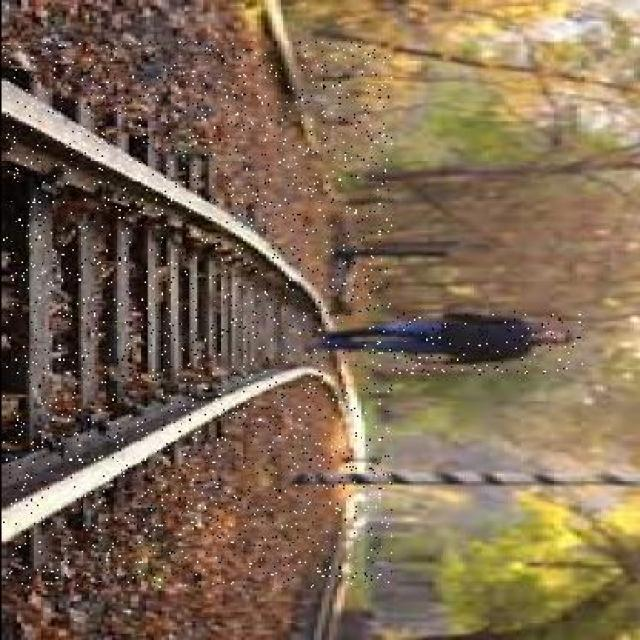rail: (3, 41, 391, 588)
